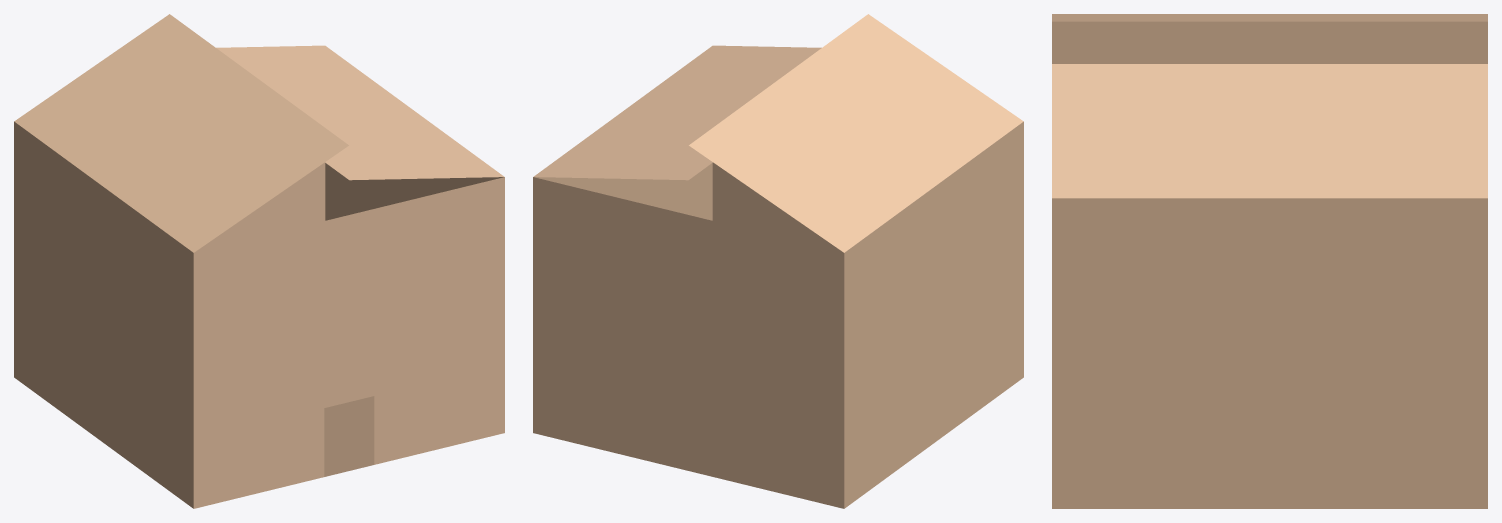
File: kn-cardboard-box-closed.glb
3 renders of one model, left to right at view 1: azimuth 30°, elevation 25°; view 2: azimuth 150°, elevation 25°; view 3: azimuth 270°, elevation 25°, orthographic. The views are drawn at different scales.
Visible parts, largest first — view 1: cardboardBoxClosed(Clone); view 2: cardboardBoxClosed(Clone); view 3: cardboardBoxClosed(Clone).
Boxes of the visible parts, x1,y1,x2,y2 form: cardboardBoxClosed(Clone): [14, 14, 504, 508]; cardboardBoxClosed(Clone): [533, 14, 1023, 508]; cardboardBoxClosed(Clone): [1052, 14, 1487, 508].
Size of the model in its own units: 1 by 1 by 1.
